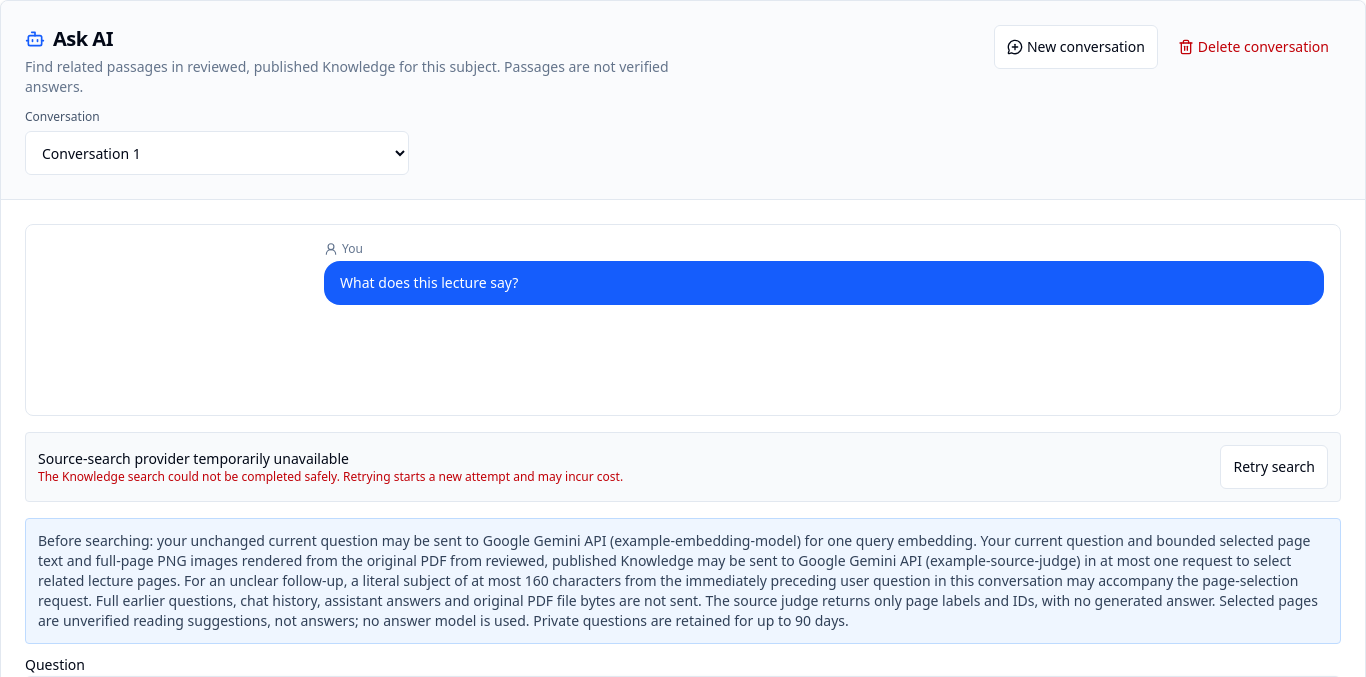
Test: keeps raw provider errors hidden and asks before a paid manual retry
Expected: the text "Source-search provider temporarily unavailable" is shown, [38,449,349,468]
Expected: the text "The Knowledge search could not be completed safely. Retrying starts a new attempt and may incur cost." is shown, [38,468,623,485]
Click the button "Retry search". click: (1274, 467)
box: [1220,445,1328,489]
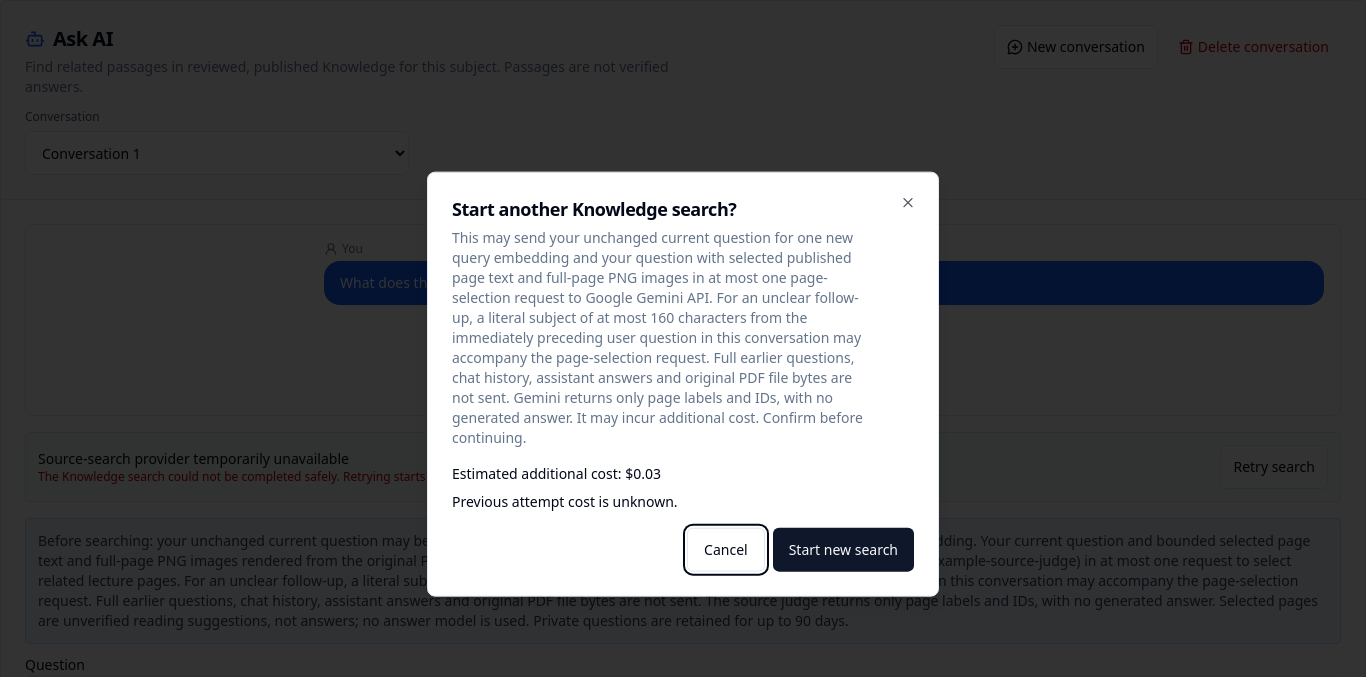
Result: the text "This may send your unchanged current question for one new query embedding and your question with selected published page" is shown at [452,227,863,446]
Result: the text "Previous attempt cost is unknown." is shown at [452,491,678,510]
